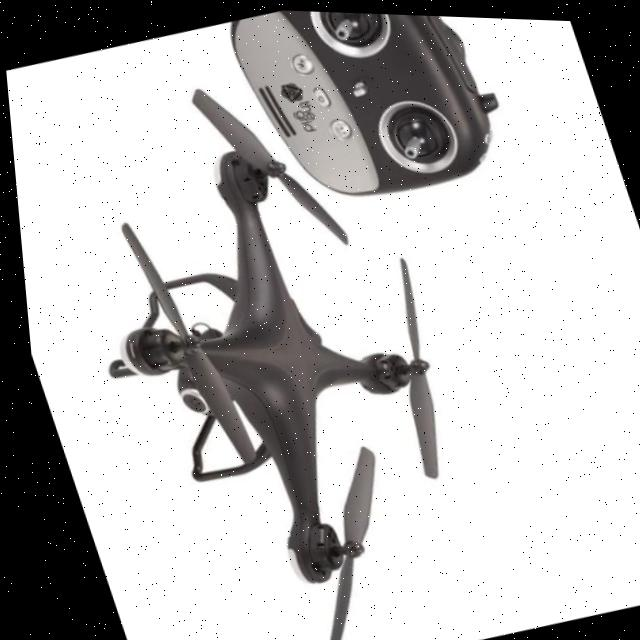drones: (2, 23, 551, 640)
